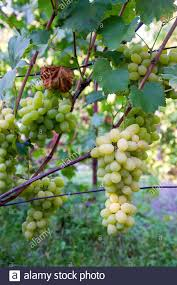grapes: (97, 117, 148, 236), (24, 89, 80, 152), (25, 174, 68, 239), (125, 42, 174, 88), (2, 109, 17, 194)
